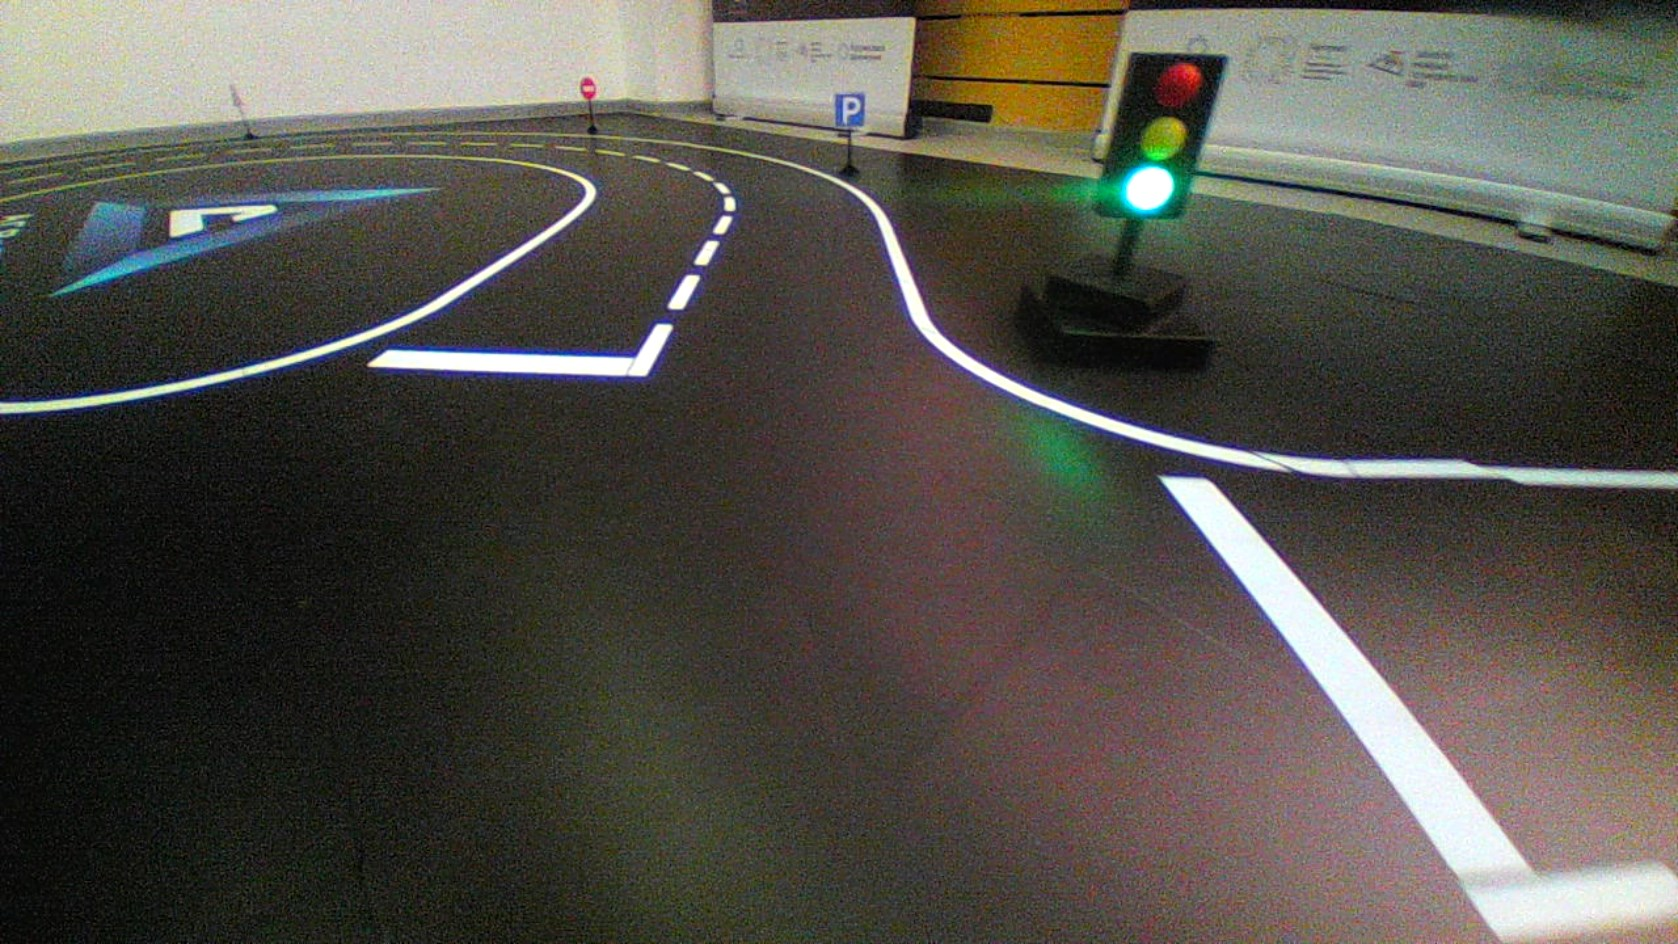trafficlight: (1090, 51, 1229, 218)
